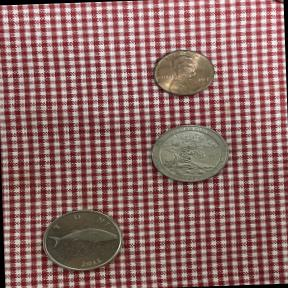coin: (34, 204, 130, 277), (144, 120, 237, 189), (147, 46, 221, 100)
